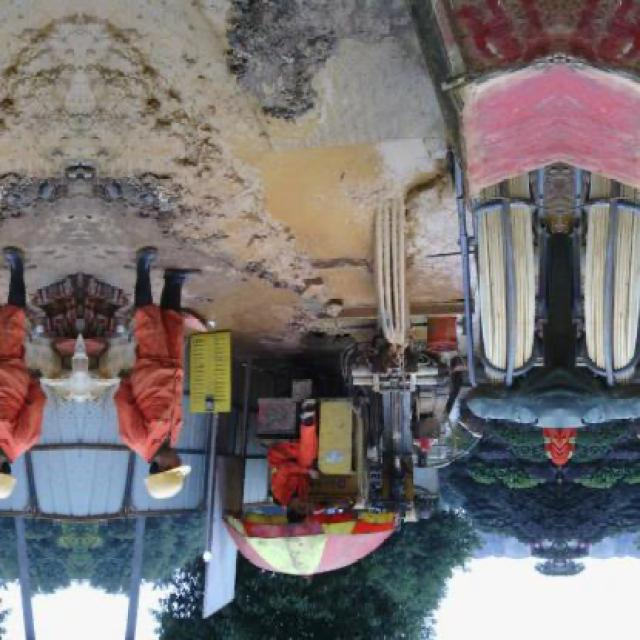con casco: (126, 454, 186, 512)
